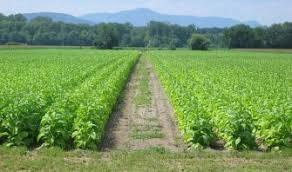field: (145, 52, 291, 149), (0, 50, 140, 150)
road: (103, 56, 182, 151)
